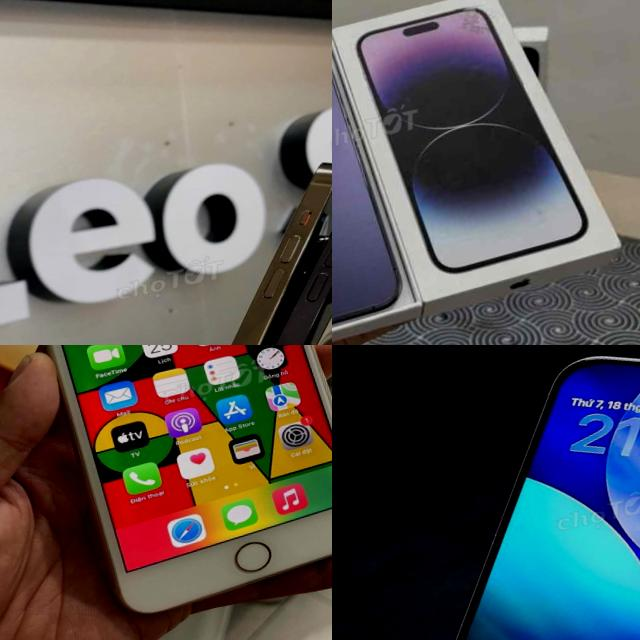gen_14: (332, 39, 412, 345), (230, 163, 332, 345)
gen_15: (335, 345, 640, 640)
gen_7_8: (45, 345, 332, 612)
